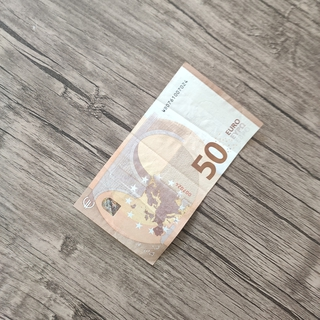50EUROBack: (71, 59, 265, 267)
